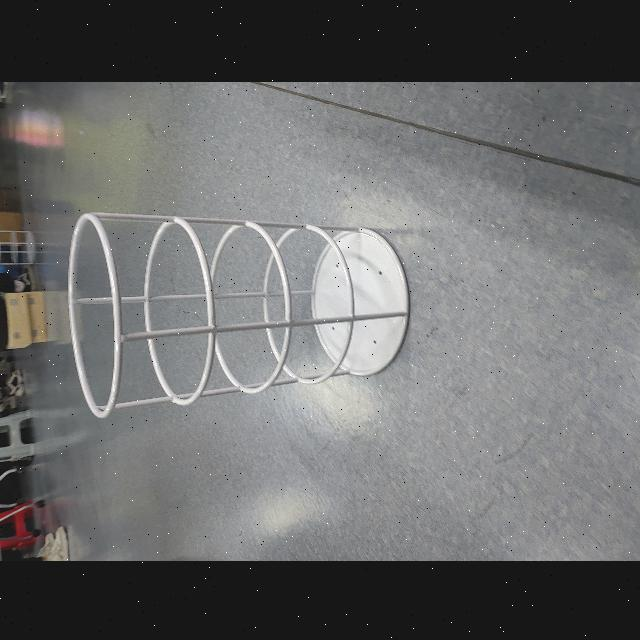S: (64, 208, 412, 420)
